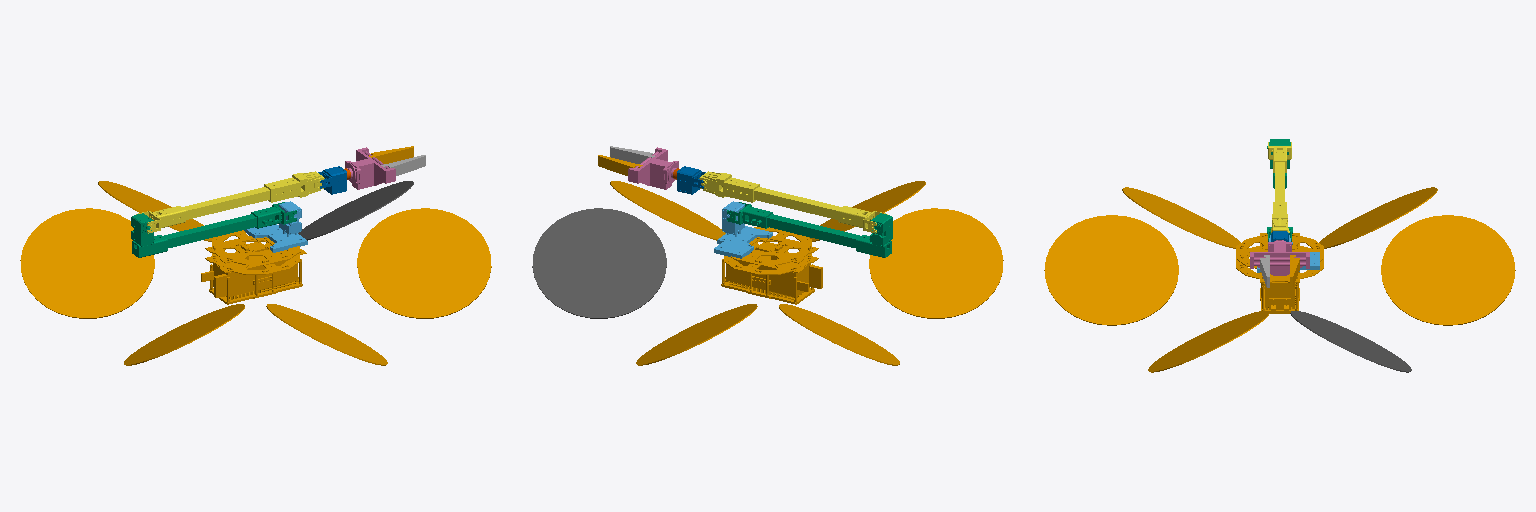
robot.urdf — hexa_scorpion_robot:
<?xml version="1.0"?>
<robot name="hexa_scorpion_robot">

    <link name="base_link">
        <!-- INERTIAL PROPERTIES (Approximation based on summed mass and dimensions) -->
        <inertial>
            <!-- Total Mass: 5.0 (base) + 6*0.1 (arms) + 6*0.0025 (thrusters) = 5.615 kg -->
            <mass value="5.615"/>
            <origin xyz="0 0 0" rpy="0 0 0"/>
            <inertia ixx="0.198" ixy="0.0" ixz="0.0"
                    iyy="0.198" iyz="0.0" izz="0.460"/>
        </inertial>

        <visual>
            <!-- Drone Base -->
            <origin xyz="0 0 0" rpy="0 0 0"/>
            <geometry>
                <mesh filename="meshes/hexa_scorpion/v2_drone_base.stl" scale="0.001 0.001 0.001"/>
            </geometry>
            <!-- <material name="CheckeredMaterial">
                <color rgba="0.5 0.5 0.5 1"/>
            </material> -->
        </visual>

        <!-- Propeller Arms (6 Meshes) -->
        <visual>
            <origin xyz="0.0 0.026 -0.011" rpy="0 0 0"/>
            <geometry>
                <mesh filename="meshes/hexa_scorpion/v2_prop_arm_cw.stl" scale="0.001 0.001 0.001"/>
            </geometry>
        </visual>
        <visual>
            <origin xyz="-0.0231 0.013 -0.011" rpy="0 0 1.047"/>
            <geometry>
                <mesh filename="meshes/hexa_scorpion/v2_prop_arm_ccw.stl" scale="0.001 0.001 0.001"/>
            </geometry>
        </visual>
        <visual>
            <origin xyz="-0.0231 -0.013 -0.011" rpy="0 0 2.094"/>
            <geometry>
                <mesh filename="meshes/hexa_scorpion/v2_prop_arm_cw.stl" scale="0.001 0.001 0.001"/>
            </geometry>
        </visual>
        <visual>
            <origin xyz="0.0 -0.026 -0.011" rpy="0 0 3.1415"/>
            <geometry>
                <mesh filename="meshes/hexa_scorpion/v2_prop_arm_ccw.stl" scale="0.001 0.001 0.001"/>
            </geometry>
        </visual>
        <visual>
            <origin xyz="0.0231 -0.013 -0.011" rpy="0 0 -2.094"/>
            <geometry>
                <mesh filename="meshes/hexa_scorpion/v2_prop_arm_cw.stl" scale="0.001 0.001 0.001"/>
            </geometry>
        </visual>
        <visual>
            <origin xyz="0.0231 0.013 -0.011" rpy="0 0 -1.047"/>
            <geometry>
                <mesh filename="meshes/hexa_scorpion/v2_prop_arm_ccw.stl" scale="0.001 0.001 0.001"/>
            </geometry>
        </visual>

        <!-- COLLISION GEOMETRIES (For physics and contact) - ORIENTATIONS CORRECTED -->
        <!-- Base collision: Using cylinder primitive for accurate capsule representation -->
        <!-- Cylinder creates a capsule with exact radius and height (no approximation needed) -->
        <!-- Adjust radius and length to match your actual base dimensions -->
        <collision>
            <origin xyz="0 0 0" rpy="0 0 0"/>
            <geometry>
                <!-- For a 1.0m x 1.0m square base, use radius=0.5m (half the width) -->
                <!-- For a circular base, use the actual radius -->
                <!-- Note: Height should be large enough to create visible capsule (not sphere) -->
                <!-- If base is very thin, consider using a slightly larger height for visualization -->
                <cylinder radius="0.6" length="0.05"/>
            </geometry>
        </collision>

        <!-- Propeller Arms (6 Meshes) - Collision disabled to prevent oversized base capsule -->
        <!-- If propeller arm collision is needed, consider moving them to separate links -->
        <!--
        <collision>
            <origin xyz="0.0 0.026 -0.011" rpy="0 0 0"/>
            <geometry>
                <mesh filename="meshes/hexa_scorpion/v2_prop_arm_cw.stl" scale="0.001 0.001 0.001"/>
            </geometry>
        </collision>
        <collision>
            <origin xyz="-0.0231 0.013 -0.011" rpy="0 0 1.047"/>
            <geometry>
                <mesh filename="meshes/hexa_scorpion/v2_prop_arm_ccw.stl" scale="0.001 0.001 0.001"/>
            </geometry>
        </collision>
        <collision>
            <origin xyz="-0.0231 -0.013 -0.011" rpy="0 0 2.094"/>
            <geometry>
                <mesh filename="meshes/hexa_scorpion/v2_prop_arm_cw.stl" scale="0.001 0.001 0.001"/>
            </geometry>
        </collision>
        <collision>
            <origin xyz="0.0 -0.026 -0.011" rpy="0 0 3.1415"/>
            <geometry>
                <mesh filename="meshes/hexa_scorpion/v2_prop_arm_ccw.stl" scale="0.001 0.001 0.001"/>
            </geometry>
        </collision>
        <collision>
            <origin xyz="0.0231 -0.013 -0.011" rpy="0 0 -2.094"/>
            <geometry>
                <mesh filename="meshes/hexa_scorpion/v2_prop_arm_cw.stl" scale="0.001 0.001 0.001"/>
            </geometry>
        </collision>
        <collision>
            <origin xyz="0.0231 0.013 -0.011" rpy="0 0 -1.047"/>
            <geometry>
                <mesh filename="meshes/hexa_scorpion/v2_prop_arm_ccw.stl" scale="0.001 0.001 0.001"/>
            </geometry>
        </collision>
        -->

        <!-- ================= THRUSTERS ================= -->
        <!-- Thruster collision geometries are disabled to prevent oversized base capsule -->
        <!-- If thruster collision is needed, consider moving them to separate links -->
        <!-- Thruster 0 -->
        <visual>
            <origin xyz="0.34175 0.1585 -0.058" rpy="-0.464 -0.252 0.060"/>
            <geometry>
                <cylinder radius="0.15" length="0.0025"/>
            </geometry>
            <material name="ThrusterColor">
                <color rgba="0.4 0.4 0.4 1"/>
            </material>
        </visual>
        <!--
        <collision>
            <origin xyz="0.34175 0.1585 -0.058" rpy="-0.464 -0.252 0.060"/>
            <geometry>
                <cylinder radius="0.15" length="0.0025"/>
            </geometry>
        </collision>
        -->

        <!-- Thruster 1 -->
        <visual>
            <origin xyz="-0.0335 0.375 -0.058" rpy="0.0 0.524 0.0"/>
            <geometry>
                <cylinder radius="0.15" length="0.0025"/>
            </geometry>
        </visual>
        <!--
        <collision>
            <origin xyz="-0.0335 0.375 -0.058" rpy="0.0 0.524 0.0"/>
            <geometry>
                <cylinder radius="0.15" length="0.0025"/>
            </geometry>
        </collision>
        -->

        <!-- Thruster 2 -->
        <visual>
            <origin xyz="-0.30825 0.2165 -0.058" rpy="0.464 -0.252 -0.060"/>
            <geometry>
                <cylinder radius="0.15" length="0.0025"/>
            </geometry>
        </visual>
        <!--
        <collision>
            <origin xyz="-0.30825 0.2165 -0.058" rpy="0.464 -0.252 -0.060"/>
            <geometry>
                <cylinder radius="0.15" length="0.0025"/>
            </geometry>
        </collision>
        -->

        <!-- Thruster 3 -->
        <visual>
            <origin xyz="-0.30825 -0.2165 -0.058" rpy="-0.464 -0.252 0.060"/>
            <geometry>
                <cylinder radius="0.15" length="0.0025"/>
            </geometry>
        </visual>
        <!--
        <collision>
            <origin xyz="-0.30825 -0.2165 -0.058" rpy="-0.464 -0.252 0.060"/>
            <geometry>
                <cylinder radius="0.15" length="0.0025"/>
            </geometry>
        </collision>
        -->

        <!-- Thruster 4 -->
        <visual>
            <origin xyz="-0.0335 -0.375 -0.058" rpy="0.0 0.524 0.0"/>
            <geometry>
                <cylinder radius="0.15" length="0.0025"/>
            </geometry>
        </visual>
        <!--
        <collision>
            <origin xyz="-0.0335 -0.375 -0.058" rpy="0.0 0.524 0.0"/>
            <geometry>
                <cylinder radius="0.15" length="0.0025"/>
            </geometry>
        </collision>
        -->

        <!-- Thruster 5 -->
        <visual>
            <origin xyz="0.34175 -0.1585 -0.058" rpy="0.464 -0.252 -0.060"/>
            <geometry>
                <cylinder radius="0.15" length="0.0025"/>
            </geometry>
        </visual>
        <!--
        <collision>
            <origin xyz="0.34175 -0.1585 -0.058" rpy="0.464 -0.252 -0.060"/>
            <geometry>
                <cylinder radius="0.15" length="0.0025"/>
            </geometry>
        </collision>
        -->

    </link>

    <!-- ================= Arm (converted from MuJoCo) ================= -->
    <!-- All links and joints are top-level (URDF style), joint origins come from MuJoCo body pos/quats. -->
    <!-- Quat (0.707,0.707,0,0) -> rpy = (pi/2, 0, 0) used where MuJoCo had that quat. -->

    <!-- Arm base (mounted to base_link at pos 0.088 0 0.0) -->
    <link name="arm_base_link">
        <inertial>
            <mass value="0.1"/>
            <origin xyz="0 0 0" rpy="0 0 0"/>
            <inertia ixx="0.0001" iyy="0.0001" izz="0.0001" ixy="0" ixz="0" iyz="0"/>
        </inertial>
        <visual>
            <origin xyz="0 0 0" rpy="0 0 0"/>
            <geometry>
            <mesh filename="meshes/hexa_scorpion/v2_arm_base.stl" scale="0.001 0.001 0.001"/>
            </geometry>
        </visual>
        <collision>
            <origin xyz="0 0 0" rpy="0 0 0"/>
            <geometry>
            <mesh filename="meshes/hexa_scorpion/v2_arm_base.stl" scale="0.001 0.001 0.001"/>
            </geometry>
        </collision>
    </link>

    <joint name="arm_base_fixed" type="fixed">
        <!-- MuJoCo body arm_base_link pos="0.088 0 0.0" quat="1 0 0 0" -->
        <origin xyz="0.088 0 0.0" rpy="0 0 0"/>
        <parent link="base_link"/>
        <child link="arm_base_link"/>
    </joint>

    <!-- Link 1 (manipulation_link1_pitch_link) -->
    <link name="arm_link1_pitch_link">
        <!-- MuJoCo geom had quat 0.707 0.707 0 0 -> mesh needs a +90deg about X fix -->
        <inertial>
            <mass value="0.2"/>
            <origin xyz="0 0 0" rpy="0 0 0"/>
            <inertia ixx="0.0005" iyy="0.0001" izz="0.0005" ixy="0" ixz="0" iyz="0"/>
        </inertial>
        <visual>
            <origin xyz="0 0 0" rpy="0 0 0"/>
            <geometry>
            <mesh filename="meshes/hexa_scorpion/v2_arm_link1_pitch_rotate.stl" scale="0.001 0.001 0.001"/>
            </geometry>
        </visual>
        <collision>
            <origin xyz="0 0 0" rpy="0 0 0"/>
            <geometry>
            <mesh filename="meshes/hexa_scorpion/v2_arm_link1_pitch_rotate.stl" scale="0.001 0.001 0.001"/>
            </geometry>
        </collision>
    </link>

    <joint name="arm_link1_pitch_joint" type="revolute">
        <!-- MuJoCo body: pos="0.0 0.0 0.06475" quat="1 0 0 0" -->
        <origin xyz="0 0 0.06475" rpy="0 0 0"/>
        <parent link="arm_base_link"/>
        <child link="arm_link1_pitch_link"/>
        <axis xyz="0 1 0"/> <!-- hinge about Y as in MuJoCo -->
        <!-- Custom limits: [-0.1, 130/180*π] -->
        <limit lower="0.0" upper="2.268928" effort="20" velocity="5"/>
    </joint>

    <!-- Link 2 (manipulation_link2_pitch_link) -->
    <link name="arm_link2_pitch_link">
        <!-- The MuJoCo body had quat 0.707 0.707 0 0 (90deg about X) -->
        <inertial>
            <mass value="0.2"/>
            <origin xyz="0 0 0" rpy="0 0 0"/>
            <inertia ixx="0.0005" iyy="0.0001" izz="0.0005" ixy="0" ixz="0" iyz="0"/>
        </inertial>
        <visual>
            <origin xyz="0 0 0" rpy="0 0 0"/>
            <geometry>
            <mesh filename="meshes/hexa_scorpion/v2_arm_link2_pitch_rotate.stl" scale="0.001 0.001 0.001"/>
            </geometry>
        </visual>
        <collision>
            <origin xyz="0 0 0" rpy="0 0 0"/>
            <geometry>
            <mesh filename="meshes/hexa_scorpion/v2_arm_link2_pitch_rotate.stl" scale="0.001 0.001 0.001"/>
            </geometry>
        </collision>
    </link>

    <joint name="arm_link2_pitch_joint" type="revolute">
        <!-- MuJoCo body: pos="-0.3795 0.0 0.059" quat="0.707 0.707 0 0" -->
        <!-- Convert quat->rpy: (pi/2, 0, 0) -->
        <origin xyz="-0.3795 0 0.059" rpy="0 0 0"/>
        <parent link="arm_link1_pitch_link"/>
        <child link="arm_link2_pitch_link"/>
        <axis xyz="0 -1 0"/>
        <!-- Custom limits: [-0.1, 130/180*π] -->
        <limit lower="0.0" upper="2.268928" effort="20" velocity="5"/>
    </joint>

    <!-- Link 3 (manipulation_link3_pitch_link) -->
    <link name="arm_link3_pitch_link">
        <inertial>
            <mass value="0.2"/>
            <origin xyz="0 0 0" rpy="0 0 0"/>
            <inertia ixx="0.0005" iyy="0.0001" izz="0.0005" ixy="0" ixz="0" iyz="0"/>
        </inertial>
        <visual>
            <origin xyz="0 0 0" rpy="0 0 0"/>
            <geometry>
            <mesh filename="meshes/hexa_scorpion/v2_arm_link3_pitch_rotate.stl" scale="0.001 0.001 0.001"/>
            </geometry>
        </visual>
        <collision>
            <origin xyz="0 0 0" rpy="0 0 0"/>
            <geometry>
            <mesh filename="meshes/hexa_scorpion/v2_arm_link3_pitch_rotate.stl" scale="0.001 0.001 0.001"/>
            </geometry>
        </collision>
    </link>

    <joint name="arm_link3_pitch_joint" type="revolute">
        <!-- MuJoCo body: pos="0.4475 0 0" quat="1 0 0 0" -->
        <origin xyz="0.4475 0 0" rpy="0 0 0"/>
        <parent link="arm_link2_pitch_link"/>
        <child link="arm_link3_pitch_link"/>
        <axis xyz="0 1 0"/>
        <!-- Custom limits: [-50/180*π, 50/180*π] -->
        <limit lower="-0.872665" upper="0.872665" effort="20" velocity="5"/>
    </joint>

    <!-- Link 4 (manipulation_link4_roll_link) -->
    <link name="arm_link4_roll_link">
        <inertial>
            <mass value="0.1"/>
            <origin xyz="0 0 0" rpy="0 0 0"/>
            <inertia ixx="0.0001" iyy="0.0001" izz="0.0001" ixy="0" ixz="0" iyz="0"/>
        </inertial>
        <visual>
            <origin xyz="0 0 0" rpy="0 0 0"/>
            <geometry>
            <mesh filename="meshes/hexa_scorpion/v2_arm_link4_roll_rotate.stl" scale="0.001 0.001 0.001"/>
            </geometry>
        </visual>
        <collision>
            <origin xyz="0 0 0" rpy="0 0 0"/>
            <geometry>
            <mesh filename="meshes/hexa_scorpion/v2_arm_link4_roll_rotate.stl" scale="0.001 0.001 0.001"/>
            </geometry>
        </collision>
    </link>

    <joint name="arm_link4_roll_joint" type="revolute">
        <!-- MuJoCo body: pos="0.071 0 0" quat="1 0 0 0" -->
        <origin xyz="0.071 0 0" rpy="0 0 0"/>
        <parent link="arm_link3_pitch_link"/>
        <child link="arm_link4_roll_link"/>
        <axis xyz="1 0 0"/>
        <limit lower="-10" upper="10" effort="10" velocity="5"/>
    </joint>

    <!-- End-effector (ee) -->
    <link name="ee_link">
        <inertial>
            <mass value="0.2"/>
            <origin xyz="0 0 0" rpy="0 0 0"/>
            <inertia ixx="0.0001" iyy="0.0001" izz="0.0001" ixy="0" ixz="0" iyz="0"/>
        </inertial>
        <visual>
            <origin xyz="0.01 0 0" rpy="0 0 0"/>
            <geometry>
            <mesh filename="meshes/hexa_scorpion/v2_arm_gripper_rotate.stl" scale="0.001 0.001 0.001"/>
            </geometry>
        </visual>
        <collision>
            <origin xyz="0.01 0 0" rpy="0 0 0"/>
            <geometry>
            <mesh filename="meshes/hexa_scorpion/v2_arm_gripper_rotate.stl" scale="0.001 0.001 0.001"/>
            </geometry>
        </collision>
    </link>

    <joint name="ee_fixed" type="fixed">
        <!-- MuJoCo ee pos="0.01 0 0" -->
        <origin xyz="0 0 0" rpy="0 0 0"/>
        <parent link="arm_link4_roll_link"/>
        <child link="ee_link"/>
    </joint>

    <!-- ========================================================= -->
    <!--                      LEFT FINGER LINK                     -->
    <!-- ========================================================= -->

    <link name="manipulation_lfinger_link">
        <inertial>
            <origin xyz="0 0 0"/>
            <mass value="0.01"/>
            <inertia ixx="1e-6" iyy="1e-6" izz="1e-6" ixy="0" ixz="0" iyz="0"/>
        </inertial>

        <visual>
            <origin xyz="0 0 0" rpy="3.1415 0 0"/>
            <geometry>
                <mesh filename="meshes/hexa_scorpion/v2_gripper_long_fingertip.stl" scale="0.001 0.001 0.001"/>
            </geometry>
        </visual>

        <collision>
            <origin xyz="0 0 0" rpy="3.1415 0 0"/>
            <geometry>
                <mesh filename="meshes/hexa_scorpion/v2_gripper_long_fingertip.stl" scale="0.001 0.001 0.001"/>
            </geometry>
        </collision>
    </link>


    <!-- ========================================================= -->
    <!--                     RIGHT FINGER LINK                     -->
    <!-- ========================================================= -->

    <link name="manipulation_rfinger_link">
        <inertial>
            <origin xyz="0 0 0"/>
            <mass value="0.01"/>
            <inertia ixx="1e-6" iyy="1e-6" izz="1e-6" ixy="0" ixz="0" iyz="0"/>
        </inertial>

        <visual>
            <origin xyz="0 0 0" rpy="0 0 0"/>
            <geometry>
                <mesh filename="meshes/hexa_scorpion/v2_gripper_long_fingertip.stl" scale="0.001 0.001 0.001"/>
            </geometry>
        </visual>

        <collision>
            <origin xyz="0 0 0" rpy="0 0 0"/>
            <geometry>
                <mesh filename="meshes/hexa_scorpion/v2_gripper_long_fingertip.stl" scale="0.001 0.001 0.001"/>
            </geometry>
        </collision>
    </link>


    <!-- ========================================================= -->
    <!--                  LEFT PRISMATIC FINGER JOINT             -->
    <!-- ========================================================= -->

    <joint name="arm_lfinger_joint" type="prismatic">
        <origin xyz="0.08 0 0" rpy="0 0 0"/>
        <parent link="ee_link"/>
        <child link="manipulation_lfinger_link"/>
        <axis xyz="0 -1 0"/>
        <limit lower="0.001" upper="0.045" effort="10" velocity="5"/>
    </joint>


    <!-- ========================================================= -->
    <!--                 RIGHT PRISMATIC FINGER JOINT             -->
    <!-- ========================================================= -->

    <joint name="arm_rfinger_joint" type="prismatic">
        <origin xyz="0.08 0 0" rpy="0 0 0"/>
        <parent link="ee_link"/>
        <child link="manipulation_rfinger_link"/>
        <axis xyz="0 1 0"/>
        <limit lower="0.001" upper="0.045" effort="10" velocity="5"/>
    </joint>

</robot>

--- Facts derived from the render (not from the file) ---
3 views of the same robot in one strip: view 1: azimuth 30°, elevation 25°; view 2: azimuth 150°, elevation 25°; view 3: azimuth 270°, elevation 25° (orthographic).
Model hexa_scorpion_robot with 9 links and 8 joints (4 revolute, 2 prismatic, 2 fixed), rooted at base_link, posed joints at zero except 2 at the middle of their limits (arm_lfinger_joint = 0.023, arm_rfinger_joint = 0.023).
Visible links, largest first — view 1: base_link, arm_link2_pitch_link, arm_link1_pitch_link, arm_base_link, ee_link, arm_link3_pitch_link; view 2: base_link, arm_link2_pitch_link, arm_link1_pitch_link, arm_base_link, ee_link, arm_link3_pitch_link; view 3: base_link, arm_link2_pitch_link, ee_link.
Link boxes in pixels (x1,y1,x2,y2): base_link: [20, 181, 491, 365]; arm_link2_pitch_link: [136, 171, 324, 233]; arm_link1_pitch_link: [131, 202, 296, 257]; arm_base_link: [244, 201, 307, 252]; ee_link: [345, 147, 395, 189]; arm_link3_pitch_link: [318, 166, 346, 194]; base_link: [532, 181, 1003, 365]; arm_link2_pitch_link: [699, 171, 887, 233]; arm_link1_pitch_link: [727, 202, 892, 257]; arm_base_link: [714, 201, 772, 258]; ee_link: [628, 147, 678, 189]; arm_link3_pitch_link: [677, 166, 705, 194]; base_link: [1044, 187, 1515, 372]; arm_link2_pitch_link: [1268, 142, 1291, 232]; ee_link: [1250, 240, 1309, 275].
Size in the robot's own frame: 0.9406 by 1.05 by 0.2804 metres.
9 mesh visuals loaded from 10 distinct referenced files (8 binary STL); not drawn: 6 (reference not matched to a file when rendering).
